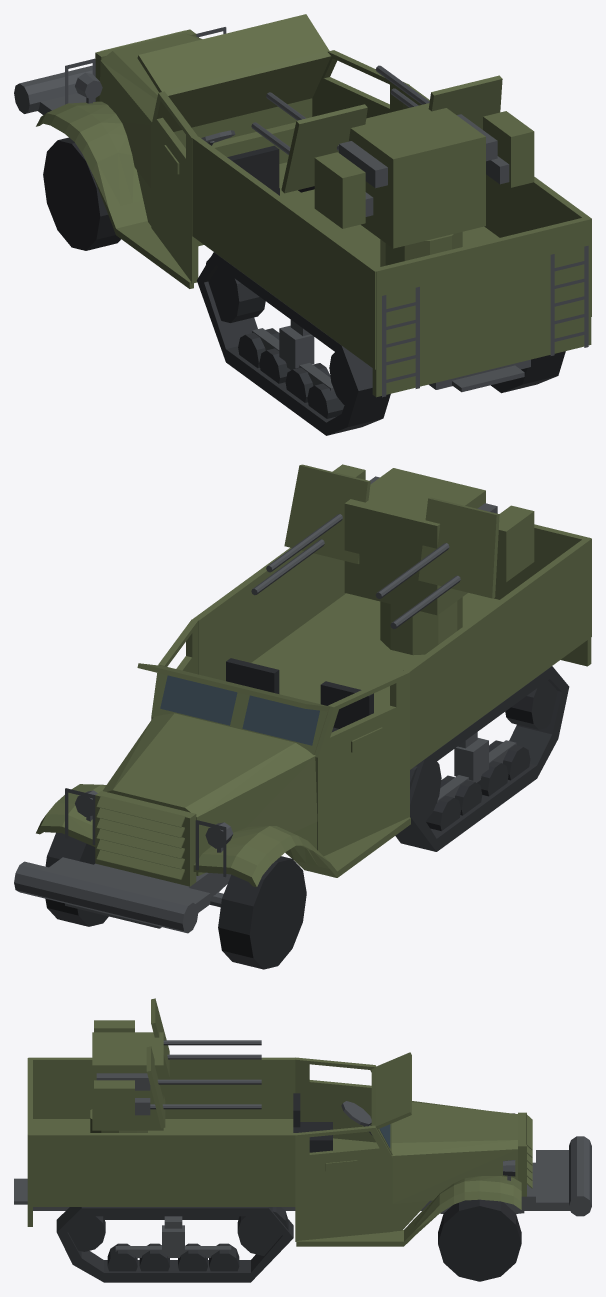
The picture shows the model from 3 angles, top to bottom: view 1: azimuth 30°, elevation 25°; view 2: azimuth 150°, elevation 25°; view 3: azimuth 270°, elevation 25°; orthographic projection. The views are drawn at different scales.
Visible parts, largest first — view 1: M16_BedTail, M16_BedWall_L, M16_M45Body, M16_Fender_L, M16_Track_L, M16_Visor, M16_Hood, M16_Windshield, M16_WheelF_L, M16_CabWallLow_L, M16_BedWall_R, M16_M45Shield_L (+23 smaller); view 2: M16_BedWall_L, M16_Hood, M16_M45Body, M16_CabWallLow_L, M16_BedFloor, M16_BedWall_R, M16_WheelF_L, M16_Track_L, M16_Fender_L, M16_Roller, M16_M45Shield_L, M16_M45Shield_R (+33 smaller); view 3: M16_BedWall_R, M16_BedWall_L, M16_Hood, M16_CabWallLow_R, M16_Track_R, M16_WheelF_R, M16_Fender_R, M16_M45Body, M16_CabWallLow_L, M16_BedFloor, M16_Visor, M16_RollerArm (+29 smaller).
Boxes of the visible parts, bbox=[...] form: M16_BedTail: bbox=[372, 216, 591, 397]; M16_BedWall_L: bbox=[192, 136, 379, 369]; M16_M45Body: bbox=[348, 103, 485, 248]; M16_Fender_L: bbox=[36, 101, 193, 288]; M16_Track_L: bbox=[197, 252, 390, 435]; M16_Visor: bbox=[137, 14, 329, 92]; M16_Hood: bbox=[99, 33, 312, 188]; M16_Windshield: bbox=[161, 50, 331, 131]; M16_WheelF_L: bbox=[43, 137, 120, 250]; M16_CabWallLow_L: bbox=[151, 115, 198, 283]; M16_BedWall_R: bbox=[403, 85, 591, 316]; M16_M45Shield_L: bbox=[281, 104, 367, 193]; M16_BedWall_L: bbox=[403, 538, 591, 769]; M16_Hood: bbox=[102, 713, 317, 875]; M16_M45Body: bbox=[344, 468, 485, 615]; M16_CabWallLow_L: bbox=[314, 701, 409, 856]; M16_BedFloor: bbox=[251, 593, 499, 712]; M16_BedWall_R: bbox=[193, 547, 345, 680]; M16_WheelF_L: bbox=[218, 856, 306, 969]; M16_Track_L: bbox=[395, 666, 569, 851]; M16_Fender_L: bbox=[193, 817, 410, 887]; M16_Roller: bbox=[14, 861, 198, 933]; M16_M45Shield_L: bbox=[418, 497, 499, 598]; M16_M45Shield_R: bbox=[284, 464, 370, 563]; M16_BedWall_R: bbox=[28, 1133, 295, 1206]; M16_BedWall_L: bbox=[28, 1057, 295, 1118]; M16_Hood: bbox=[391, 1101, 517, 1204]; M16_CabWallLow_R: bbox=[295, 1146, 392, 1241]; M16_Track_R: bbox=[56, 1207, 293, 1282]; M16_WheelF_R: bbox=[438, 1199, 521, 1281]; M16_Fender_R: bbox=[296, 1176, 521, 1246]; M16_M45Body: bbox=[92, 1032, 163, 1130]; M16_CabWallLow_L: bbox=[295, 1080, 375, 1142]; M16_BedFloor: bbox=[33, 1119, 293, 1132]; M16_Visor: bbox=[376, 1052, 411, 1128]; M16_RollerArm: bbox=[536, 1150, 570, 1210].
Bounding box in the file's own units: 2.1 × 2.61 × 6.49.
